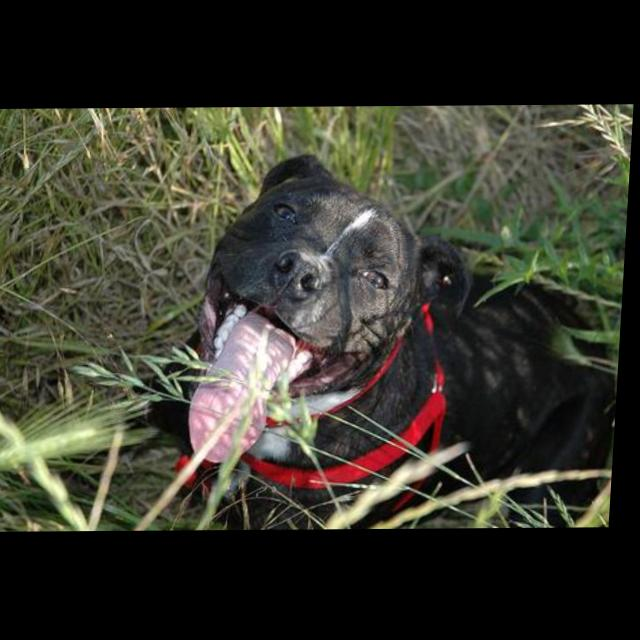staffford: (169, 151, 633, 530)
